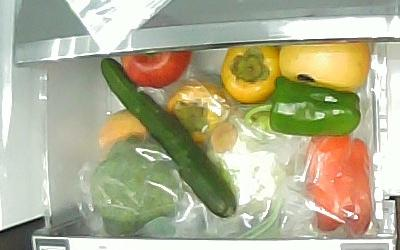apple: (119, 50, 190, 89)
broccoli_vinyl: (91, 139, 182, 238)
cucumber: (100, 58, 237, 219)
grapefruit: (279, 44, 371, 92)
lettuce_vinyl: (208, 113, 291, 213)
paprika: (245, 76, 362, 136)
paprika_vinyl: (305, 136, 372, 239)
peach_vinyl: (97, 108, 150, 160)
persimmon: (222, 47, 280, 104)
persimmon_vinyl: (166, 81, 236, 142)
